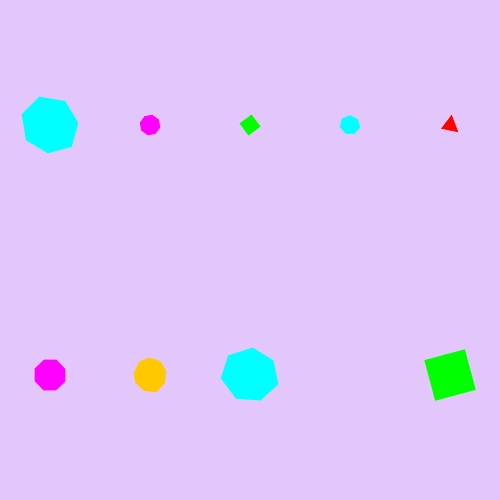heptagon: (18, 94, 83, 156), (219, 345, 282, 405), (336, 111, 365, 139)
nonagon: (129, 355, 172, 396)
octagon: (30, 355, 71, 396), (135, 110, 165, 140)
quadrilateral: (418, 343, 483, 408), (235, 110, 265, 140)
triangle: (438, 112, 463, 138)
